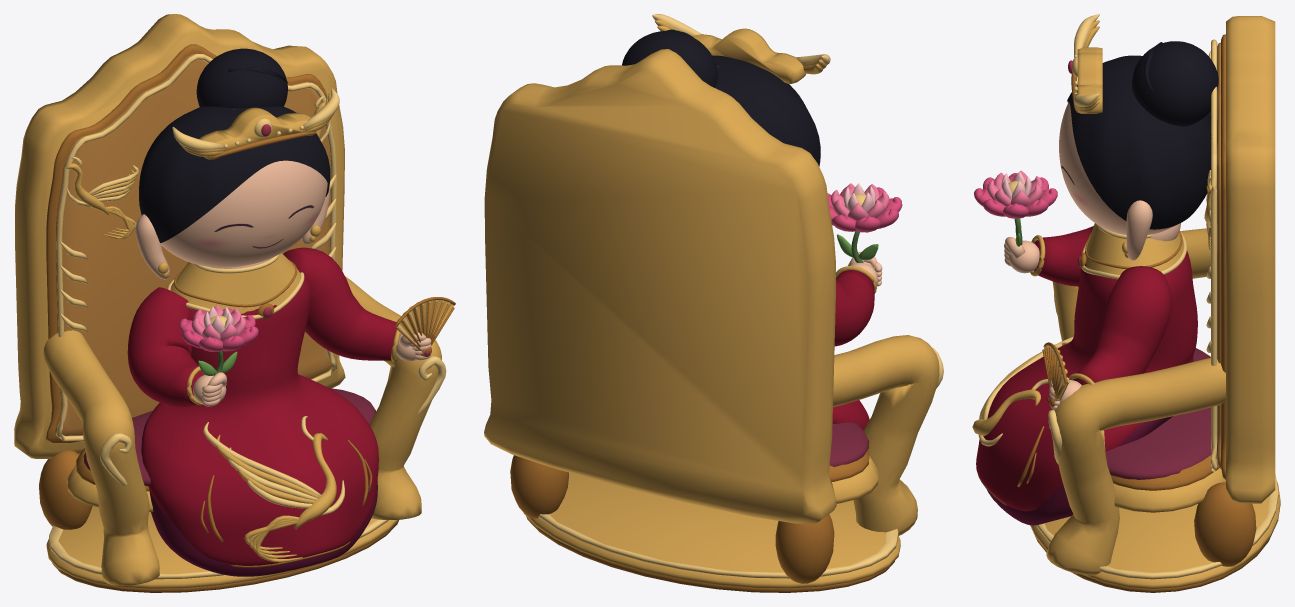
File: chibi-mau-lieu-hanh.glb
The picture shows the model from 3 angles, left to right: view 1: azimuth 30°, elevation 25°; view 2: azimuth 150°, elevation 25°; view 3: azimuth 270°, elevation 25°; orthographic projection. The views are drawn at different scales.
Parts seen in each view (by area): view 1: Phoenix throne | single reusable mesh, Red ao dai | layered skirt, collar and phoenix embroidery, Black swept hair and visible bun, Face | painted porcelain, Rounded golden crown | phoenix wing finials, Pink lotus | right-hand offering, Small folding golden fan, Neck and short rounded ears, Hands | rounded fingers holding lotus and fan; view 2: Phoenix throne | single reusable mesh, Black swept hair and visible bun, Rounded golden crown | phoenix wing finials, Pink lotus | right-hand offering, Red ao dai | layered skirt, collar and phoenix embroidery; view 3: Phoenix throne | single reusable mesh, Red ao dai | layered skirt, collar and phoenix embroidery, Black swept hair and visible bun, Pink lotus | right-hand offering, Face | painted porcelain, Rounded golden crown | phoenix wing finials, Neck and short rounded ears, Hands | rounded fingers holding lotus and fan, Small folding golden fan.
Part boxes in pixels (x1,y1,x2,y2): Phoenix throne | single reusable mesh: (14,14,446,592); Red ao dai | layered skirt, collar and phoenix embroidery: (127,247,400,576); Black swept hair and visible bun: (139,48,330,242); Face | painted porcelain: (161,160,327,267); Rounded golden crown | phoenix wing finials: (172,88,339,159); Pink lotus | right-hand offering: (179,305,258,375); Small folding golden fan: (394,297,455,356); Neck and short rounded ears: (135,186,329,279); Hands | rounded fingers holding lotus and fan: (193,332,431,406); Phoenix throne | single reusable mesh: (484,49,943,592); Black swept hair and visible bun: (622,29,820,166); Rounded golden crown | phoenix wing finials: (652,14,830,83); Pink lotus | right-hand offering: (827,183,902,262); Red ao dai | layered skirt, collar and phoenix embroidery: (832,266,877,430); Phoenix throne | single reusable mesh: (1030,16,1280,592); Red ao dai | layered skirt, collar and phoenix embroidery: (972,223,1197,525); Black swept hair and visible bun: (1067,41,1218,229); Pink lotus | right-hand offering: (974,170,1057,246); Face | painted porcelain: (1059,102,1173,234); Rounded golden crown | phoenix wing finials: (1068,14,1102,113); Neck and short rounded ears: (1122,200,1180,260); Hands | rounded fingers holding lotus and fan: (1004,237,1081,409); Small folding golden fan: (1042,342,1069,406).
Size of the model in its own units: 2.08 by 2.66 by 1.49.
16 materials, 1 textured.
